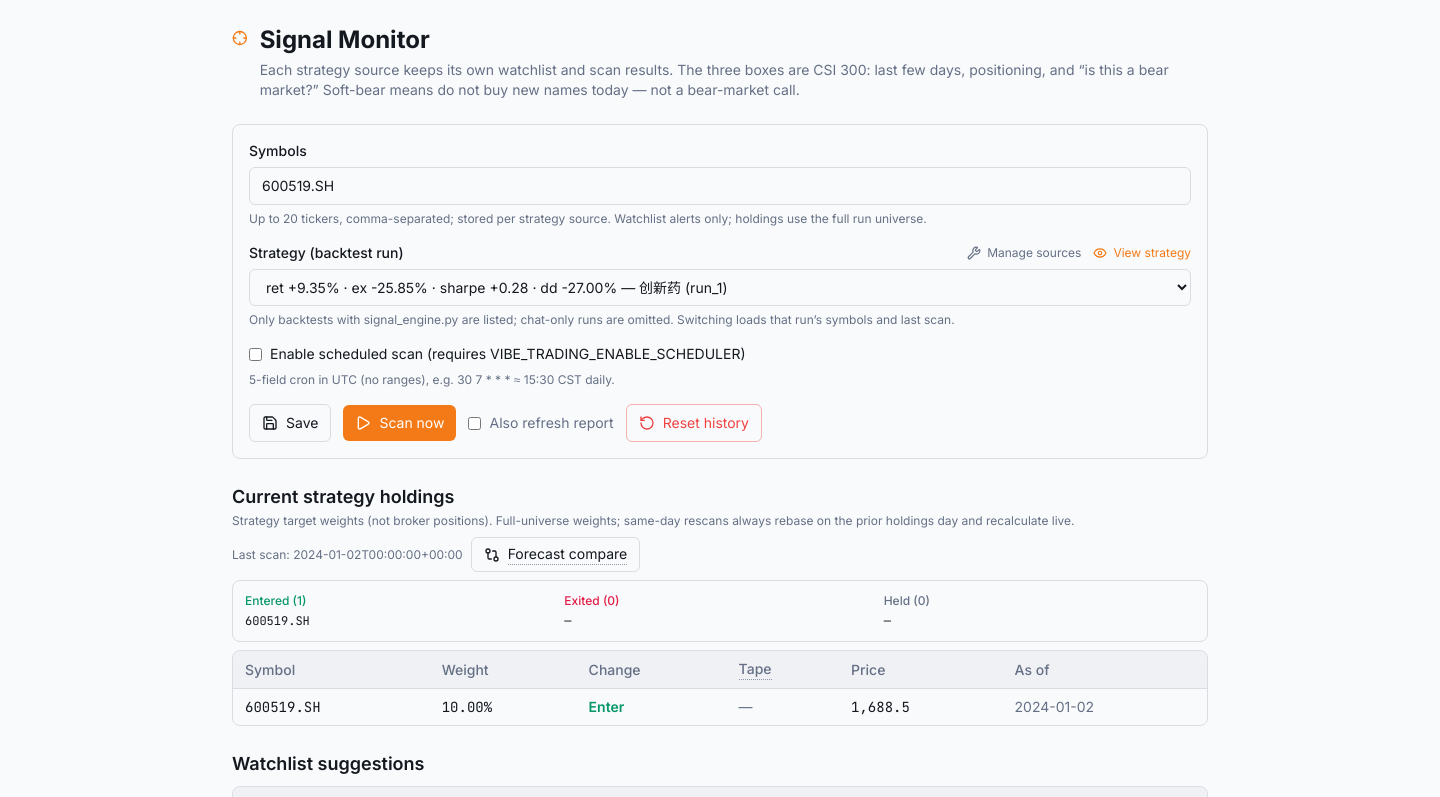
Monitor page › saves the live forecast and can reopen a stored result
Click the button "Forecast compare": [555, 554] box left=471, top=537, right=640, bottom=572
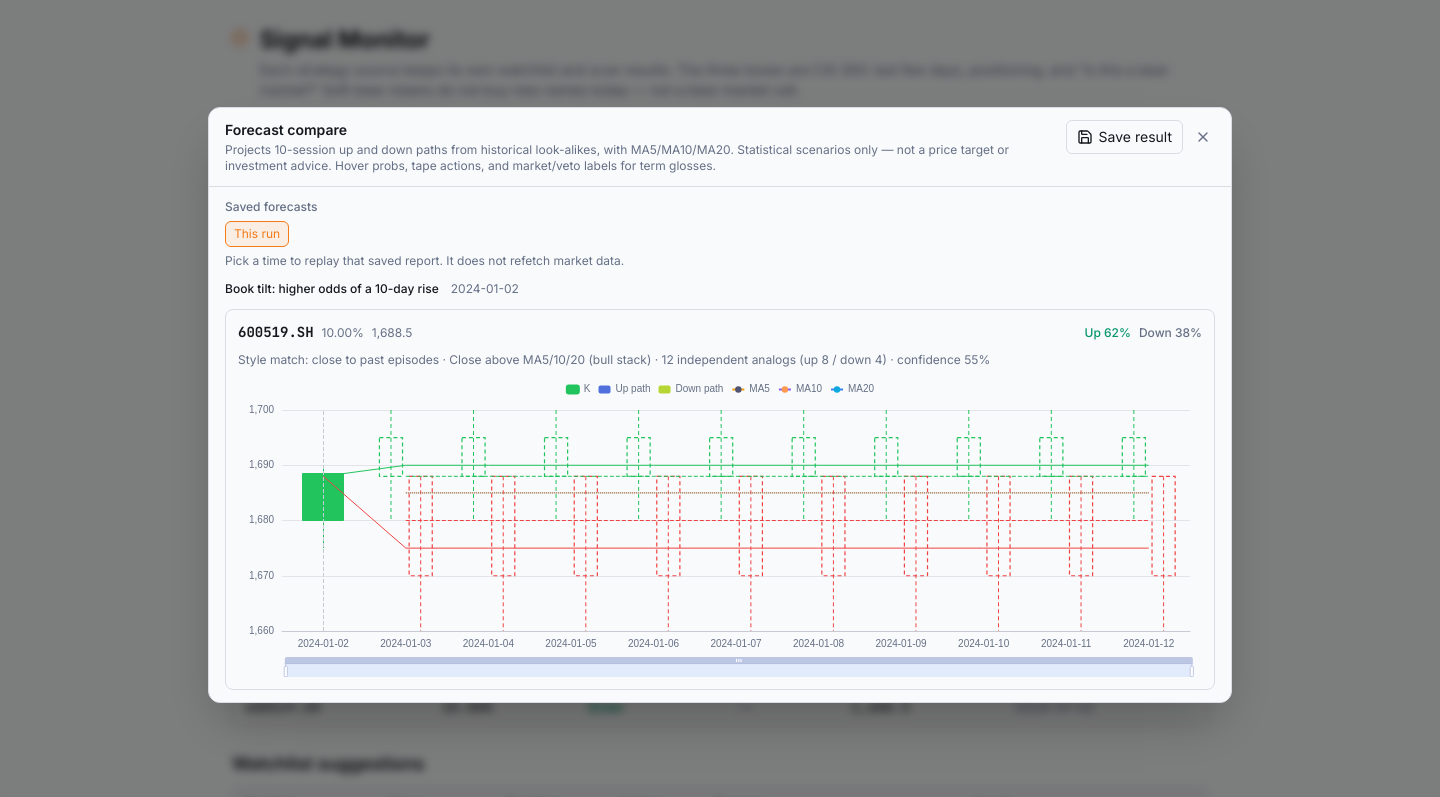
Click the button "Save result": [1124, 137] box left=1066, top=120, right=1183, bottom=154
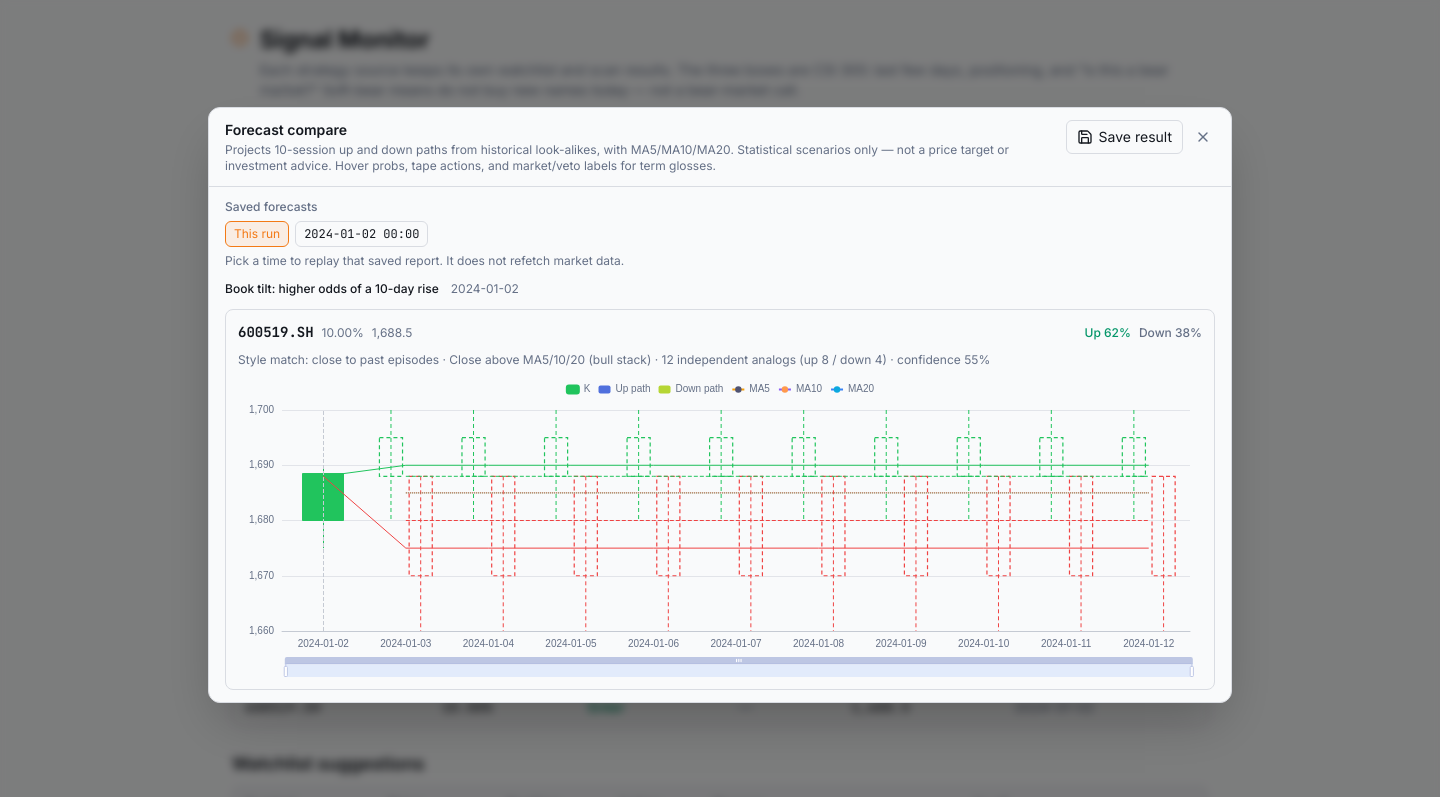
Click the button "2024-01-02 00:00": [362, 234] box left=295, top=221, right=428, bottom=247
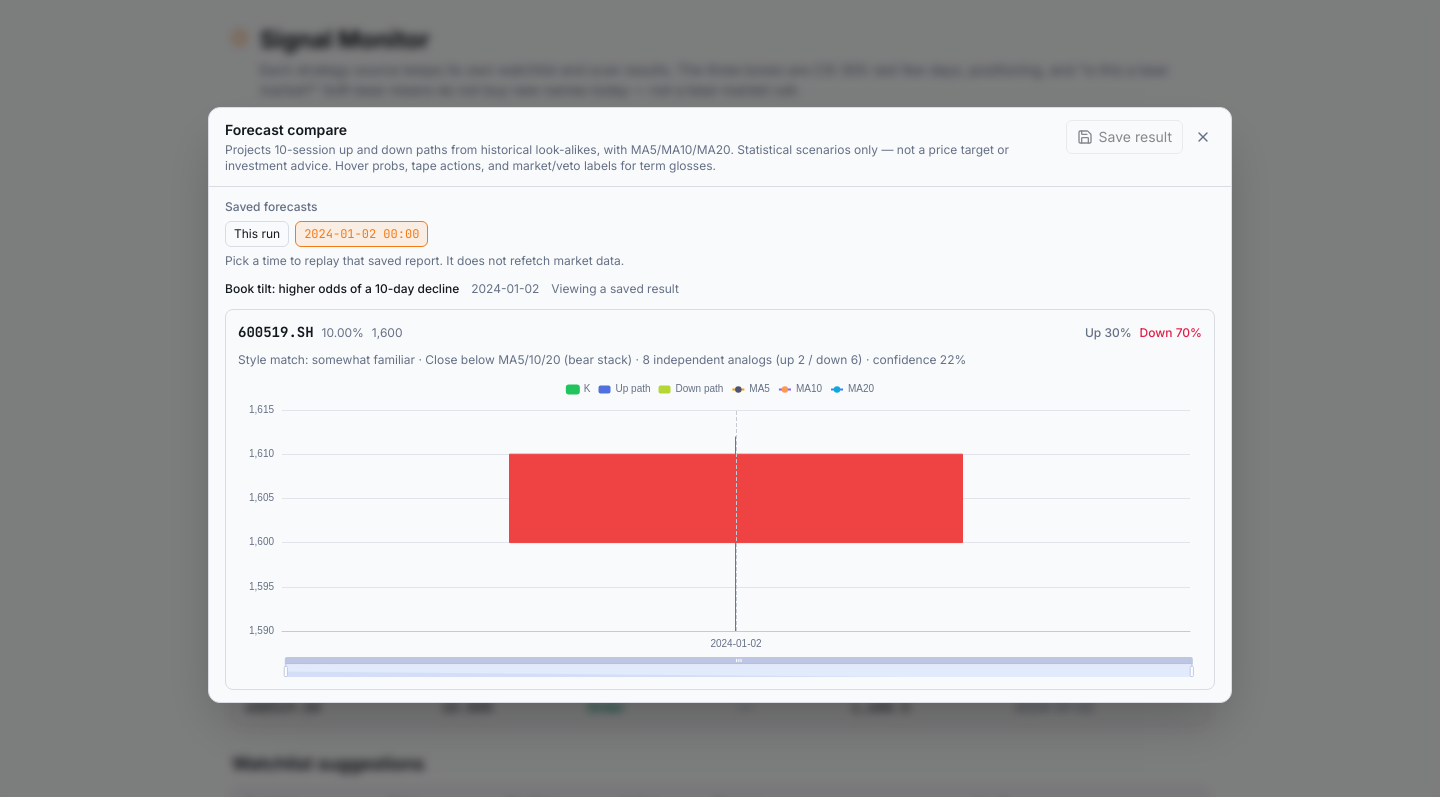
Expected: the text "Viewing a saved result" is shown, left=551, top=281, right=679, bottom=297
Expected: the text "Book tilt: higher odds of a 10-day decline" is shown, left=225, top=281, right=459, bottom=297
